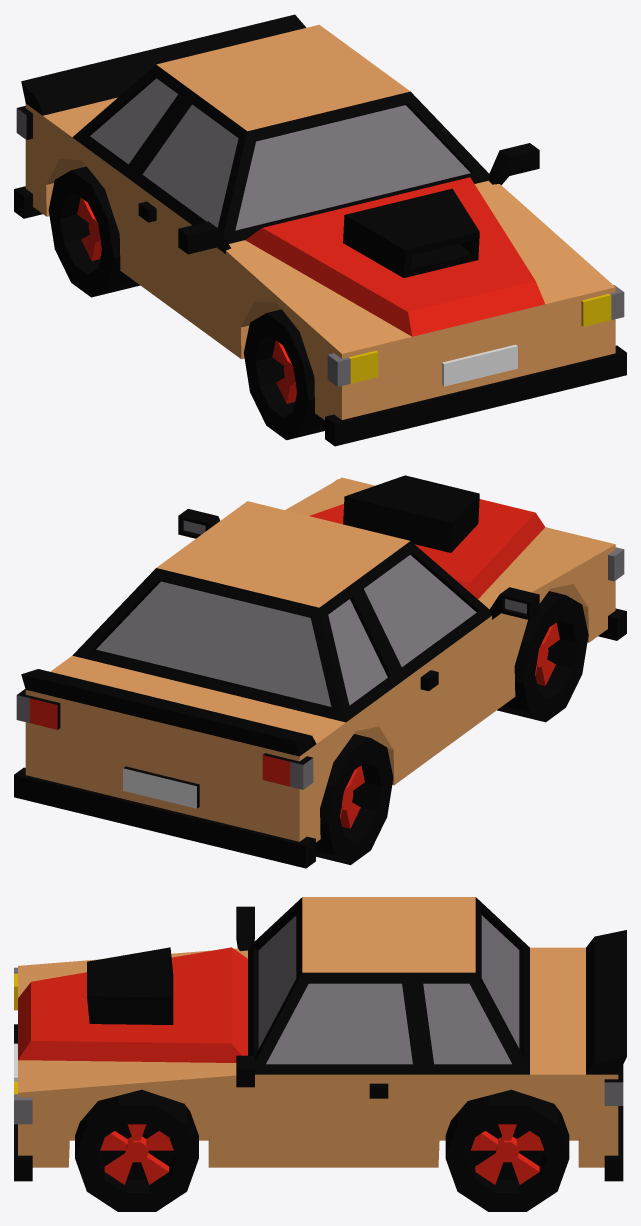
File: MainCar 1.fbx
3 renders of one model, top to bottom at view 1: azimuth 30°, elevation 25°; view 2: azimuth 150°, elevation 25°; view 3: azimuth 270°, elevation 25°, orthographic. The views are drawn at different scales.
Visible parts, largest first — view 1: Cube.003; view 2: Cube.003; view 3: Cube.003.
Boxes of the visible parts, x1,y1,x2,y2 form: Cube.003: (14,14,626,446); Cube.003: (14,475,626,868); Cube.003: (14,897,626,1211).
Bounding box in the file's own units: 257 × 156 × 408.
